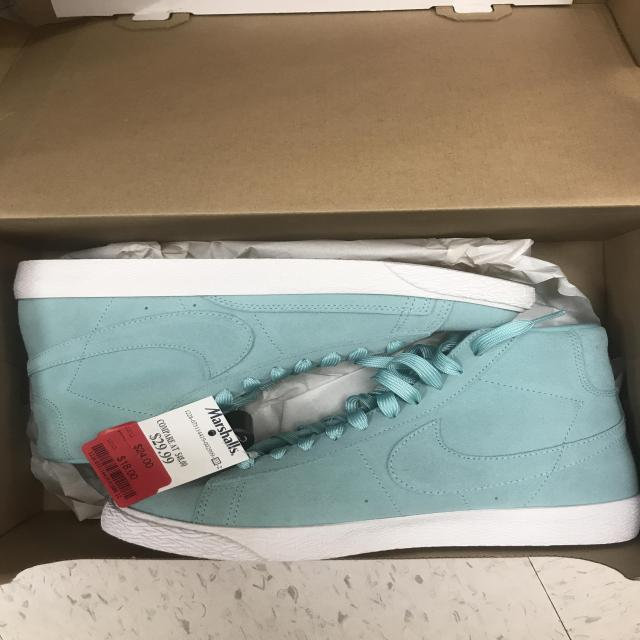shoes: (96, 314, 640, 562), (3, 250, 547, 486)
